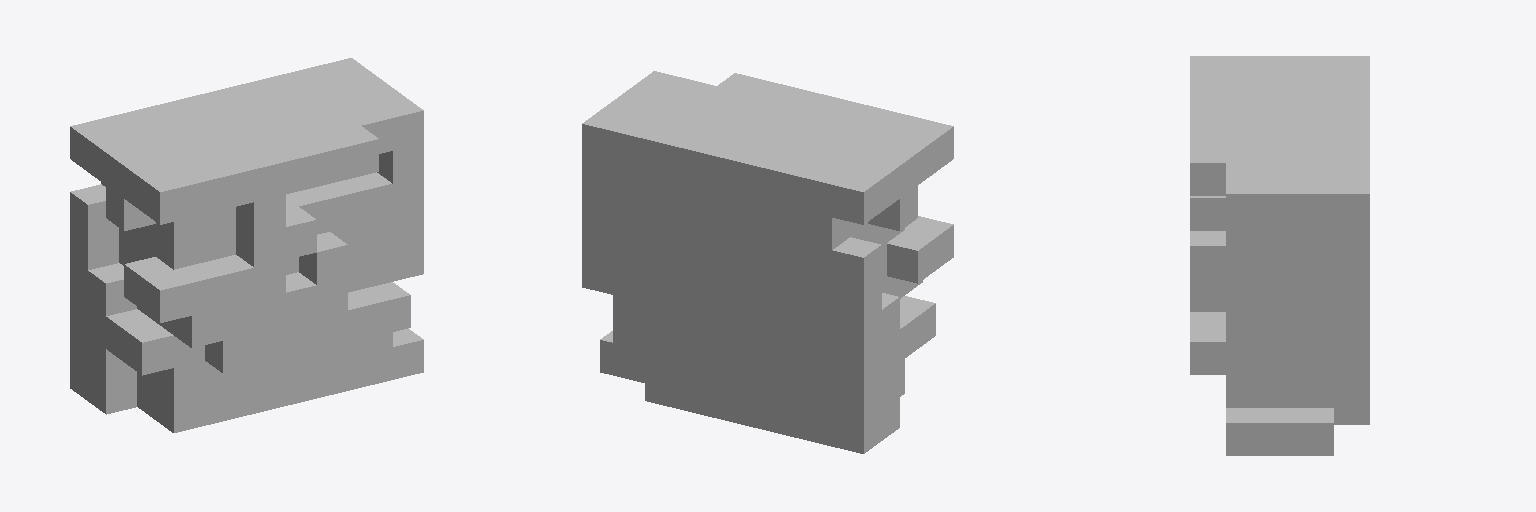
Rendered from big_kamen_s_kamnem.obj.
3 renders of one model, left to right at view 1: azimuth 30°, elevation 25°; view 2: azimuth 150°, elevation 25°; view 3: azimuth 270°, elevation 25°, orthographic.
Bounding box in the file's own units: 9 × 8 × 5.